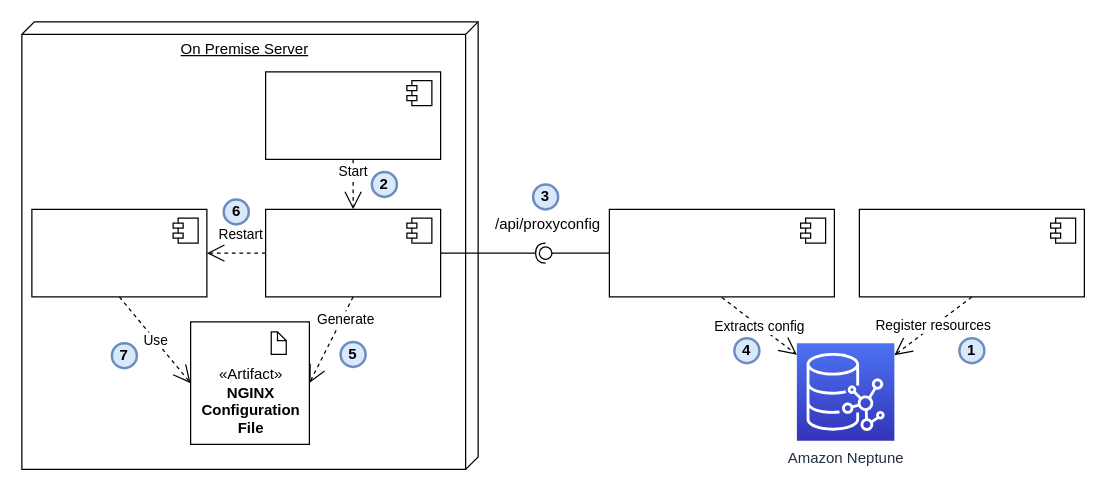
Some shapes in this 1106 by 491 pixel diagram are drawn without their labels. Each missing label, with the centre of its shape:
«Application» NGINX Server: point (119, 252)
«Component» NGINX Config Reload Service: point (352, 252)
«PID Service» Proxy Configuration Service: point (721, 252)
«PID Service» Registration Service: point (971, 252)
«Timer» NGINX Proxy Config Timer: point (352, 115)
